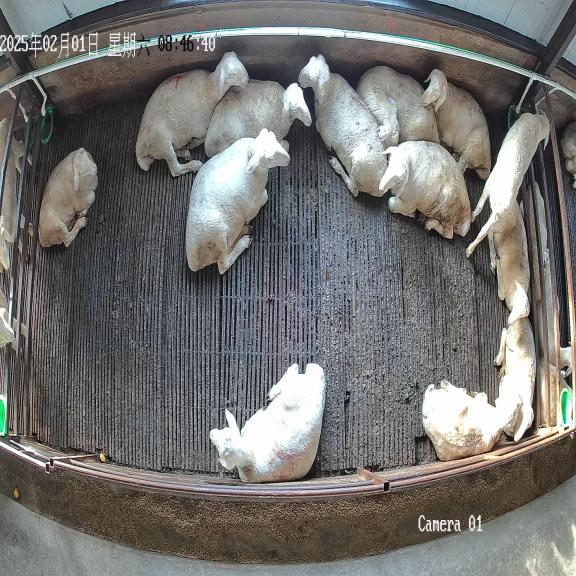drinking: (466, 113, 550, 257)
lying: (186, 128, 289, 273), (136, 52, 248, 177), (210, 364, 325, 483), (298, 54, 387, 196), (379, 141, 470, 238), (205, 79, 311, 158), (422, 380, 521, 460), (422, 69, 491, 179), (356, 66, 439, 149), (38, 148, 98, 247), (487, 200, 530, 324), (494, 316, 536, 441)
